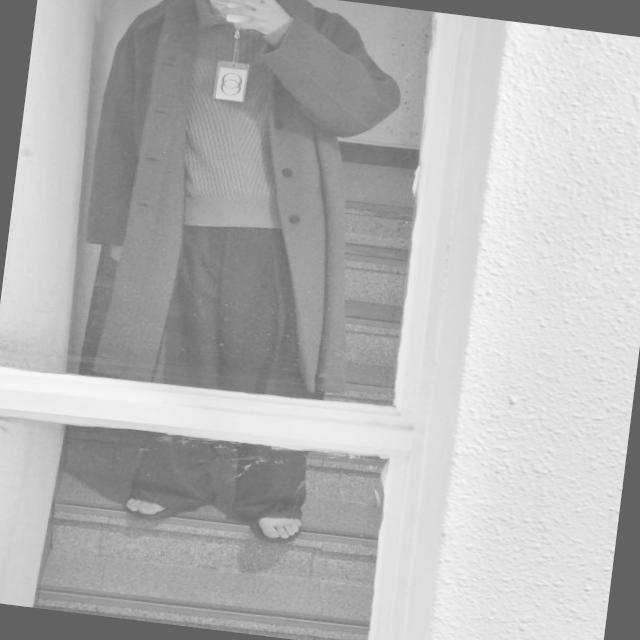coat: (65, 0, 406, 402)
slacks: (126, 209, 342, 519)
sweater: (163, 0, 308, 236)
